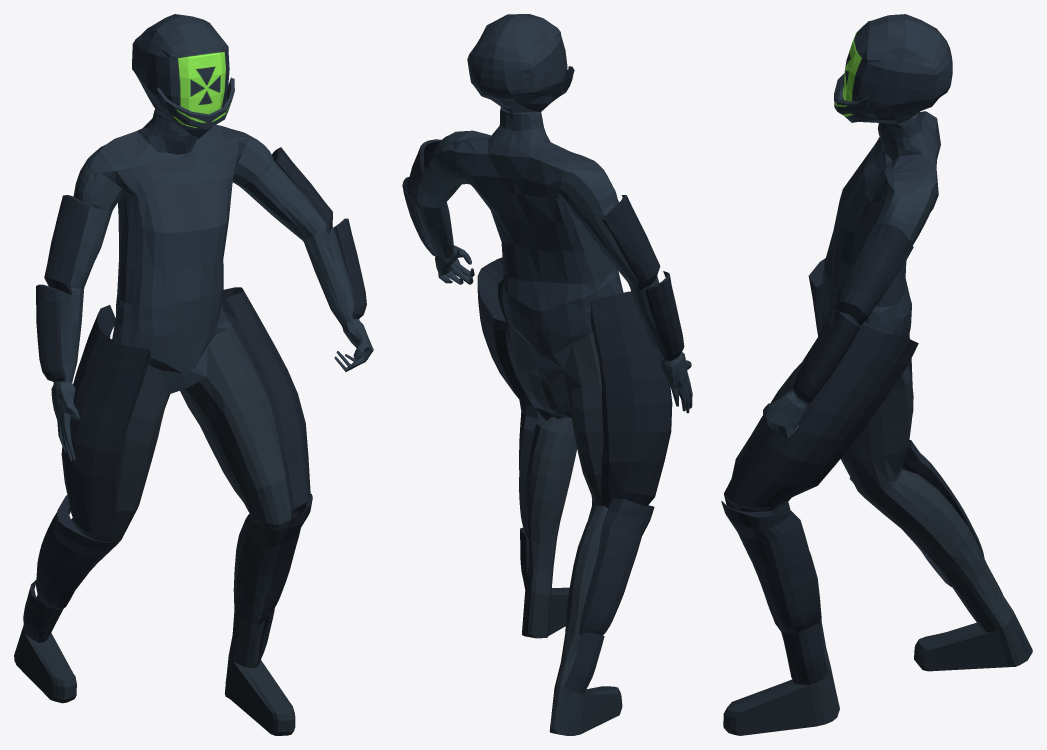
The model's file is Bastion_Hit_Recover_000004.obj.
The picture shows the model from 3 angles, left to right: view 1: azimuth 30°, elevation 25°; view 2: azimuth 150°, elevation 25°; view 3: azimuth 270°, elevation 25°; orthographic projection. The views are drawn at different scales.
Visible parts, largest first — view 1: Cube.002; view 2: Cube.002; view 3: Cube.002.
Part boxes in pixels (x1,y1,x2,y2): Cube.002: (14,14,373,735); Cube.002: (402,14,692,735); Cube.002: (721,14,1032,735).
Bounding box in the file's own units: 1.71 × 3.67 × 1.48.
